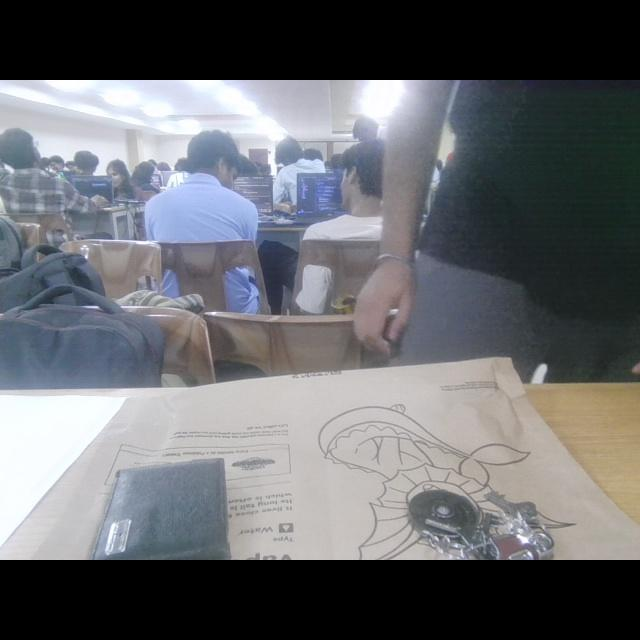keys: (398, 476, 580, 560)
wallet: (91, 428, 255, 560)
